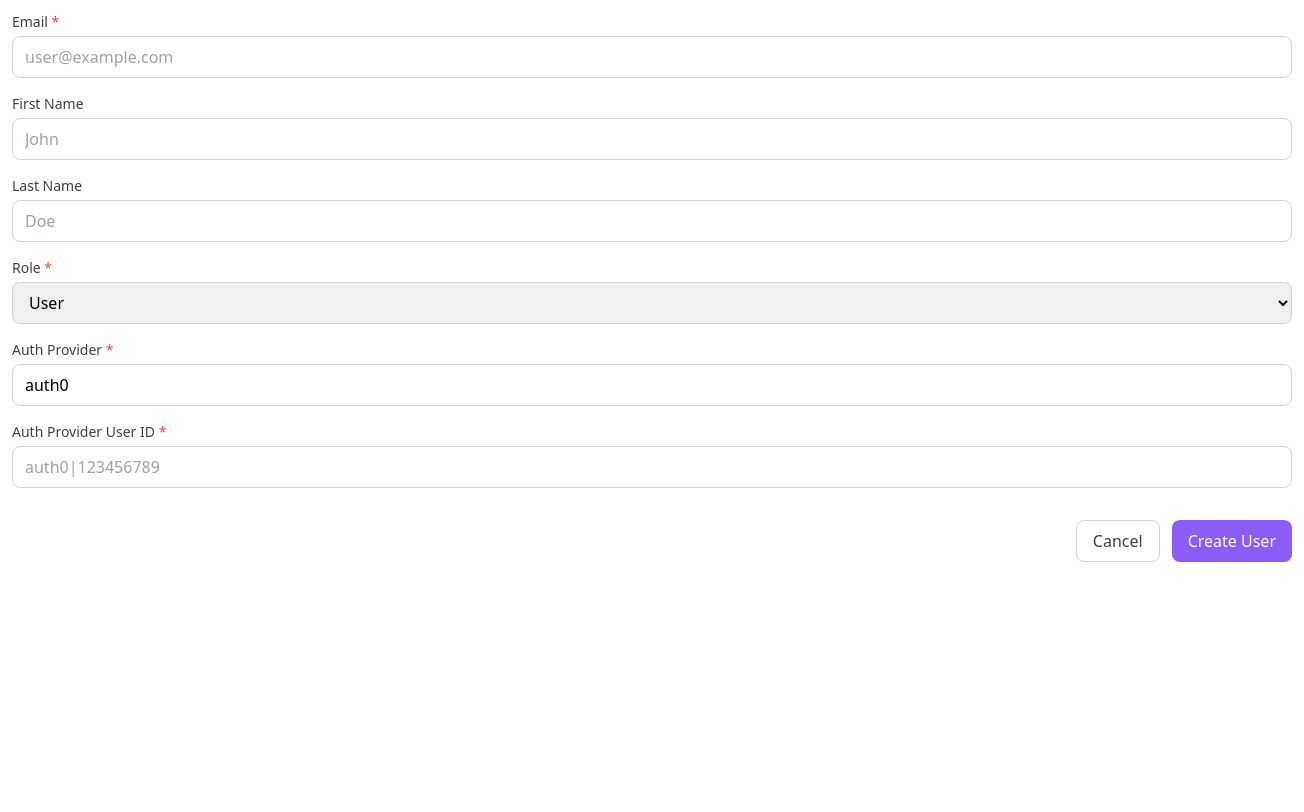
UserForm › validates required fields for create mode
What coordinates should you click on to do the following:
click the button "Create User"
I would click on:
 (1232, 541)
Its box is [1172,520,1292,562].
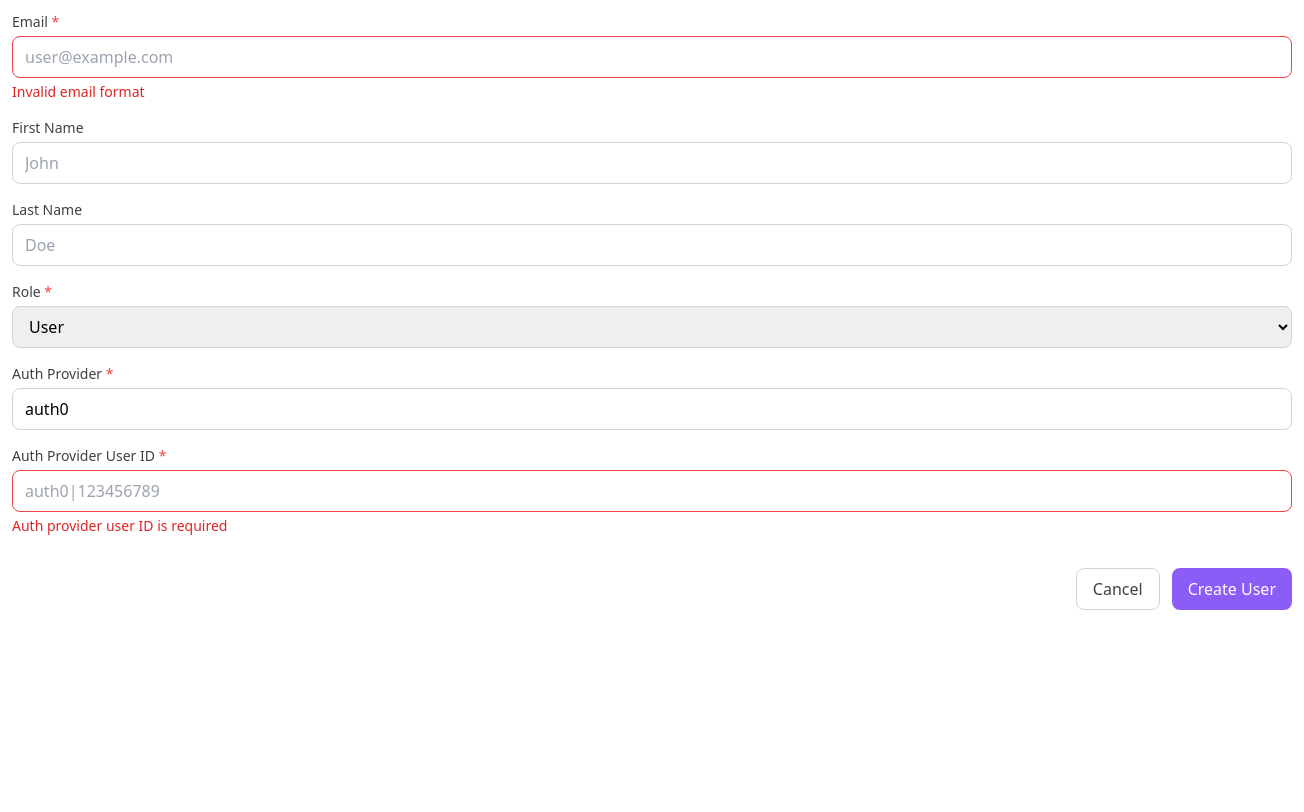
Check: the text "Invalid email format" is shown, box [12,82,145,101]
